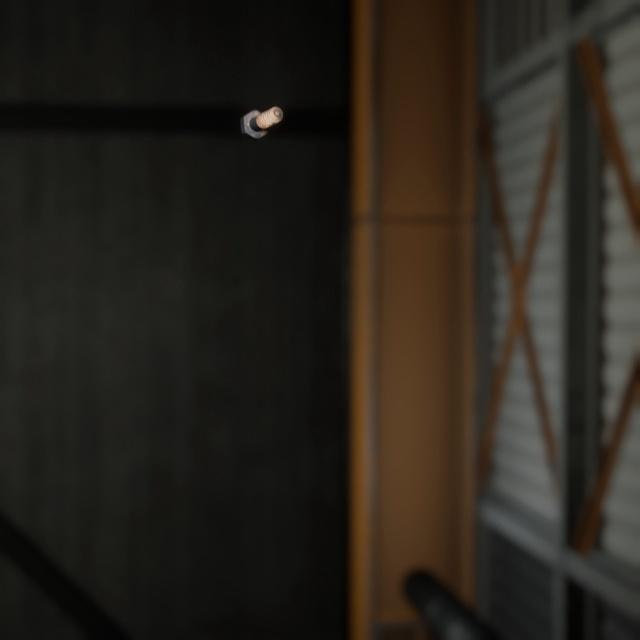bolt: (236, 89, 287, 132)
